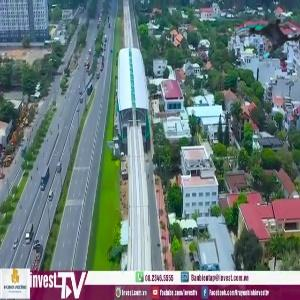drone: (237, 7, 300, 71)
